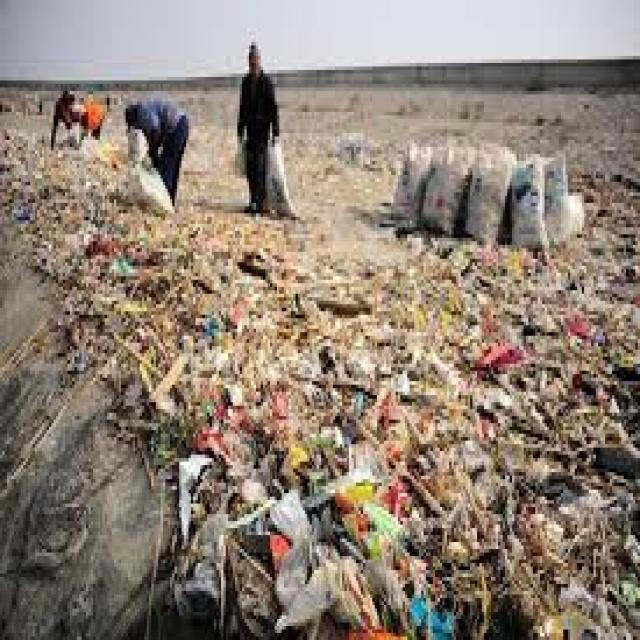heap: (152, 232, 640, 620)
